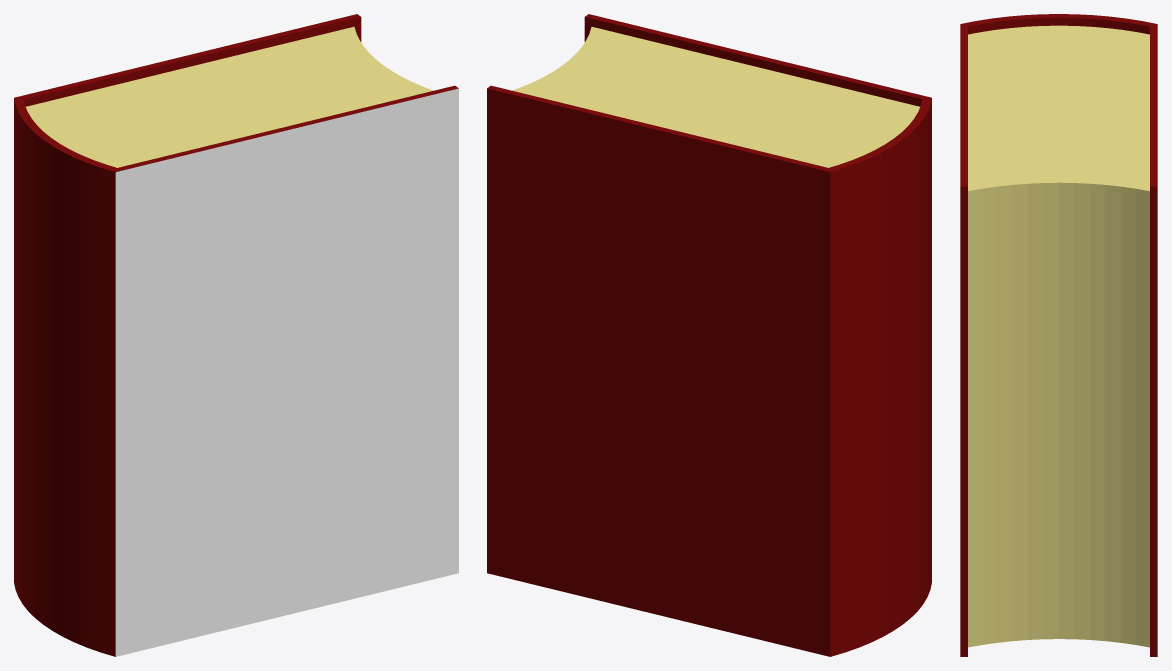
The picture shows the model from 3 angles, left to right: view 1: azimuth 30°, elevation 25°; view 2: azimuth 150°, elevation 25°; view 3: azimuth 270°, elevation 25°; orthographic projection. The views are drawn at different scales.
Parts seen in each view (by area): view 1: book; view 2: book; view 3: book.
Boxes of the visible parts, box(x1,y1,x2,y2) form: book: box(14, 14, 458, 656); book: box(487, 14, 931, 656); book: box(960, 14, 1157, 656).
Size of the model in its own units: 57.48 by 73.05 by 27.78.
